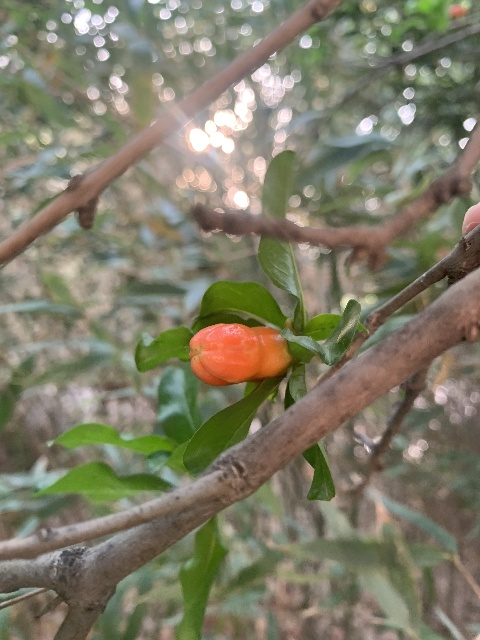bud: (188, 322, 293, 386)
